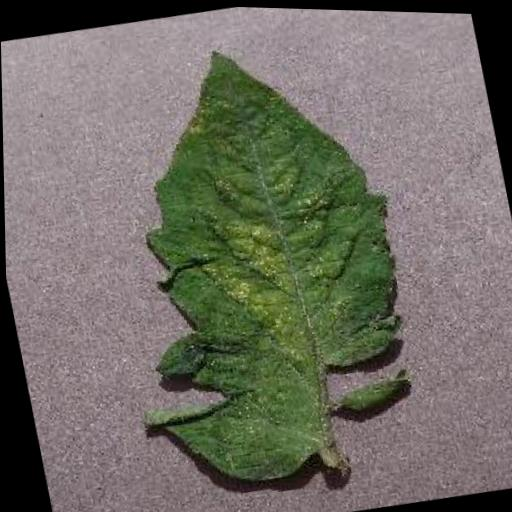Spider Mites: (72, 17, 436, 502)
